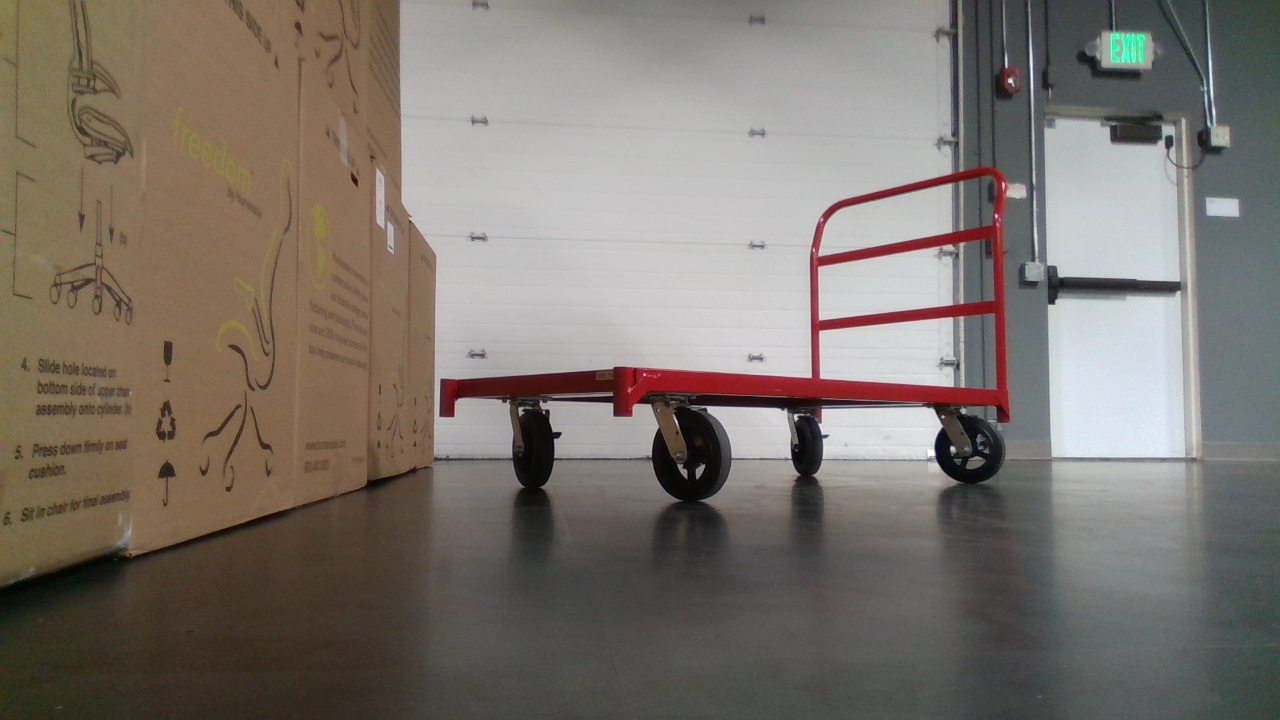Dolly: (428, 159, 1016, 504)
Wheel: (648, 405, 734, 502), (933, 411, 1004, 484), (508, 405, 561, 491), (786, 411, 826, 482)
